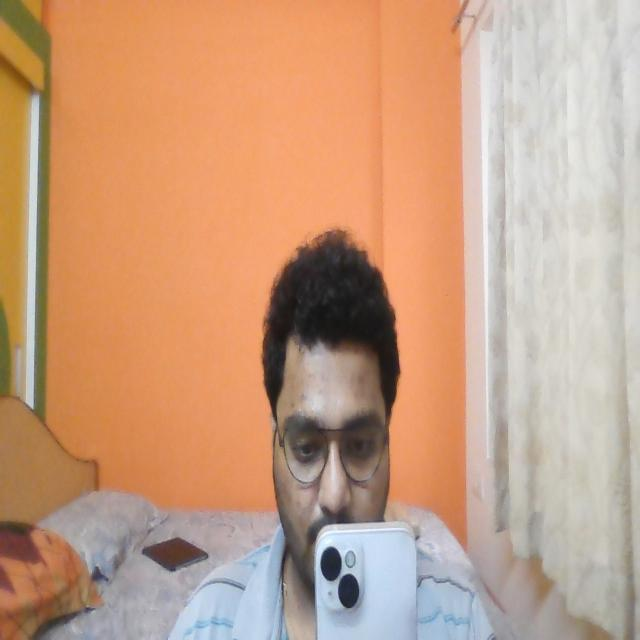phone: (316, 520, 422, 640)
